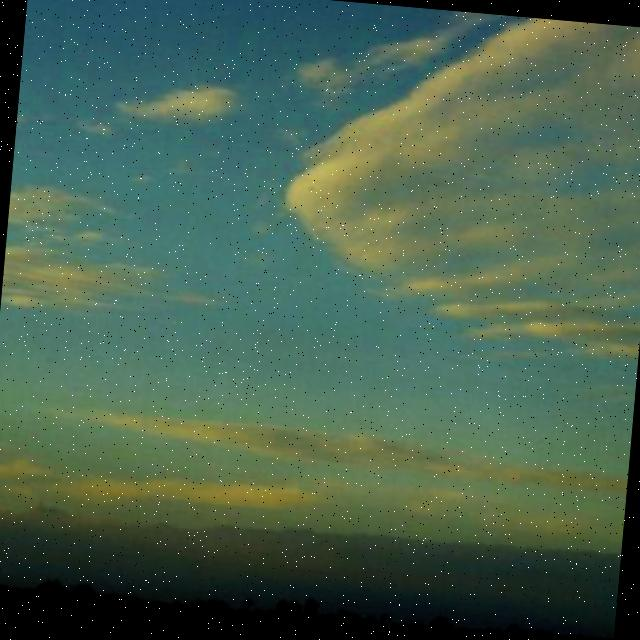Sc: (213, 1, 640, 378)
